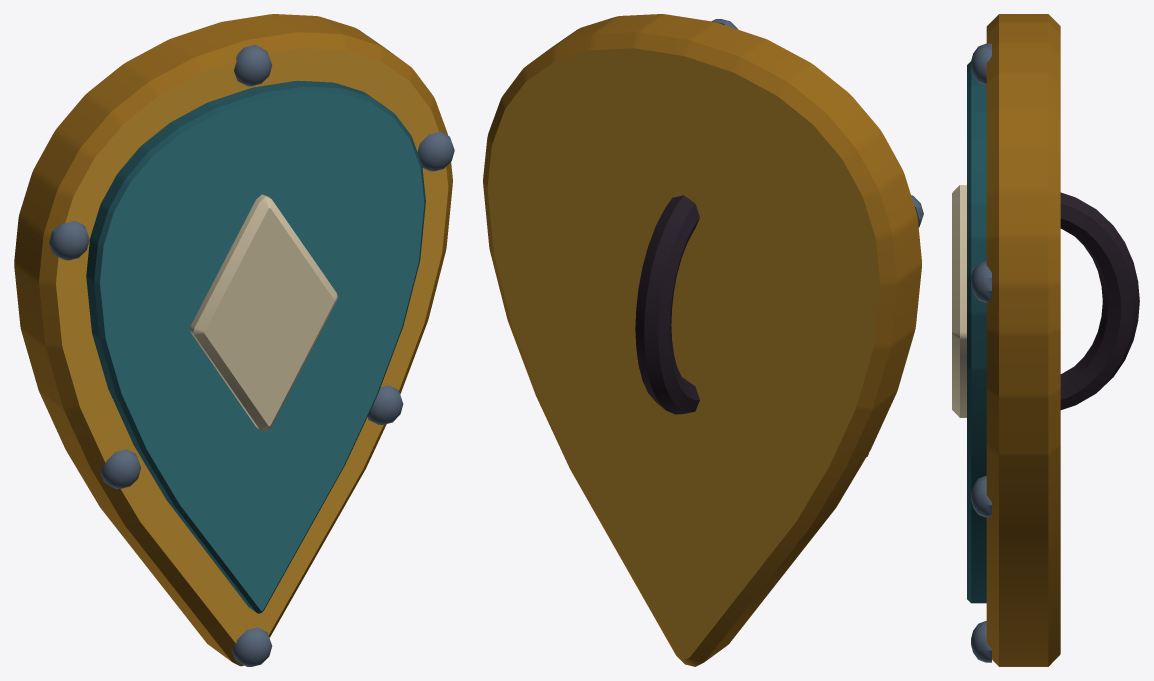
Rendered from KiteShield_14.glb.
3 renders of one model, left to right at view 1: azimuth 30°, elevation 25°; view 2: azimuth 150°, elevation 25°; view 3: azimuth 270°, elevation 25°, orthographic.
Visible parts, largest first — view 1: KiteShield_14; view 2: KiteShield_14; view 3: KiteShield_14.
Boxes of the visible parts, left/top/right/bottom form: KiteShield_14: left=14, top=14, right=454, bottom=666; KiteShield_14: left=483, top=14, right=923, bottom=666; KiteShield_14: left=952, top=14, right=1139, bottom=666.
Size of the model in its own units: 1.92 by 2.77 by 0.76.
